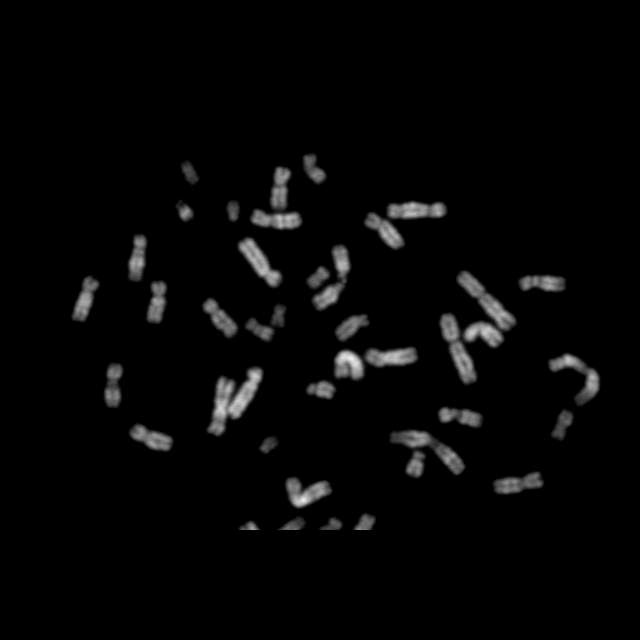chromosome: (458, 270, 516, 330), (394, 430, 466, 472), (442, 315, 478, 385), (552, 356, 598, 408), (314, 245, 350, 309), (238, 238, 282, 286), (228, 368, 266, 418), (208, 378, 234, 437), (283, 477, 331, 508), (367, 344, 419, 370), (366, 213, 402, 249), (70, 278, 100, 320), (130, 424, 172, 454), (334, 312, 372, 344), (388, 200, 448, 220), (439, 404, 483, 430), (204, 301, 236, 335), (493, 473, 542, 495), (334, 350, 364, 384), (463, 323, 505, 347), (252, 210, 302, 230), (269, 168, 291, 208), (128, 233, 146, 280), (521, 273, 565, 291), (104, 364, 122, 408), (148, 280, 166, 322), (302, 152, 326, 182), (178, 160, 200, 188), (552, 410, 572, 440), (308, 381, 336, 402), (305, 264, 329, 288), (246, 320, 272, 340), (406, 450, 424, 476), (224, 204, 242, 226), (178, 202, 194, 224), (274, 306, 286, 330)
